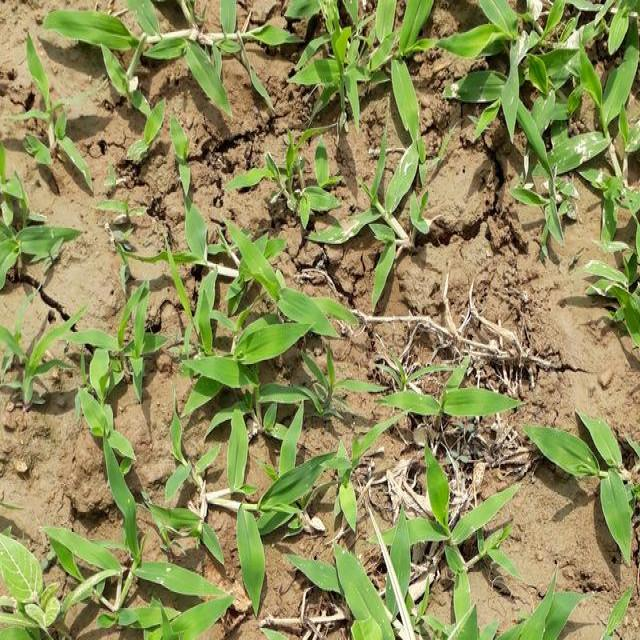weed: (46, 7, 640, 277), (26, 289, 393, 640), (379, 453, 525, 587), (525, 406, 640, 560), (379, 360, 527, 439), (4, 137, 71, 281)
